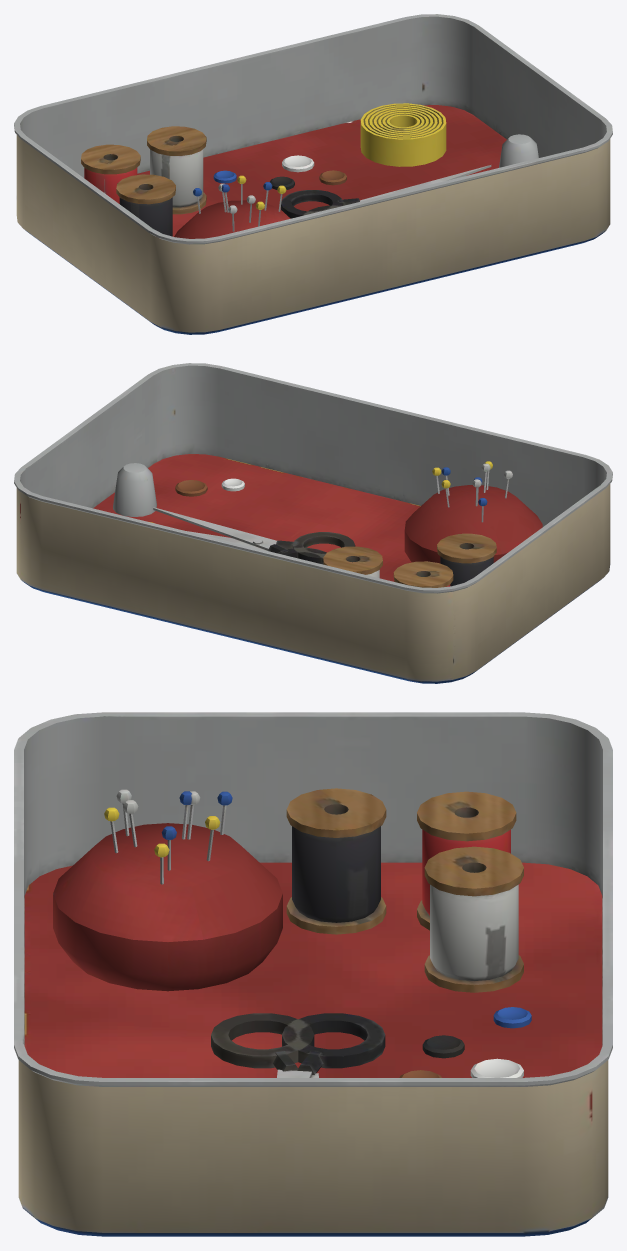
The model's file is kit_costura.glb.
The picture shows the model from 3 angles, top to bottom: view 1: azimuth 30°, elevation 25°; view 2: azimuth 150°, elevation 25°; view 3: azimuth 270°, elevation 25°; orthographic projection. The views are drawn at different scales.
Parts seen in each view (by area): view 1: lata, carreteis, forro, miudezas, tesoura; view 2: lata, forro, carreteis, miudezas, tesoura; view 3: lata, forro, carreteis, tesoura, miudezas.
Part boxes in pixels (x1,y1,x2,y2): lata: [14, 14, 612, 334]; carreteis: [81, 103, 446, 238]; forro: [137, 105, 506, 236]; miudezas: [193, 134, 538, 231]; tesoura: [281, 165, 491, 218]; lata: [14, 363, 612, 683]; forro: [93, 454, 420, 581]; carreteis: [149, 485, 542, 587]; miudezas: [113, 461, 512, 522]; tesoura: [153, 507, 355, 564]; lata: [14, 712, 612, 1236]; forro: [24, 862, 602, 1077]; carreteis: [53, 788, 523, 992]; tesoura: [211, 1013, 385, 1077]; miudezas: [104, 789, 531, 1077].
Size of the model in its own units: 0.2284 by 0.047 by 0.1564.
1 material, 1 textured.
